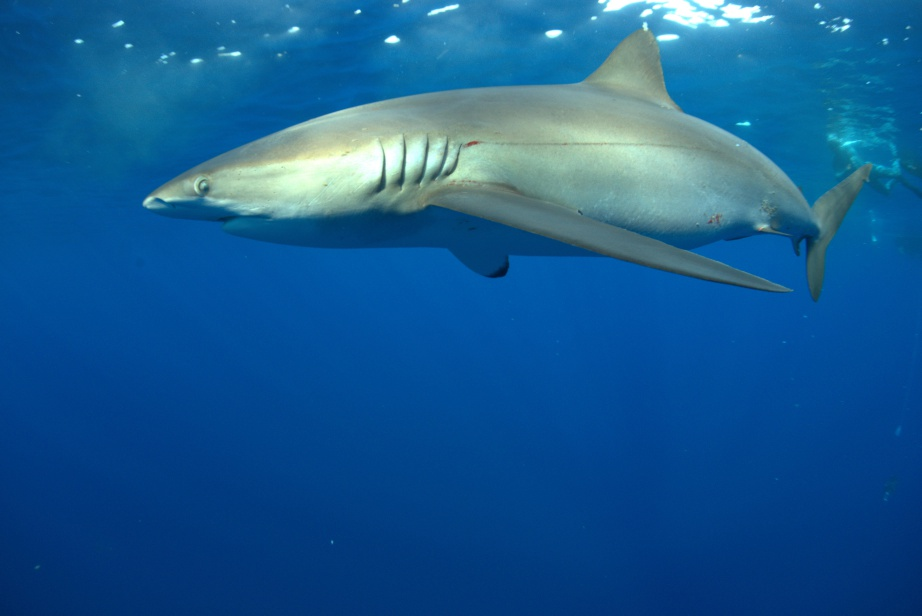Sedoso: (138, 24, 886, 303)
